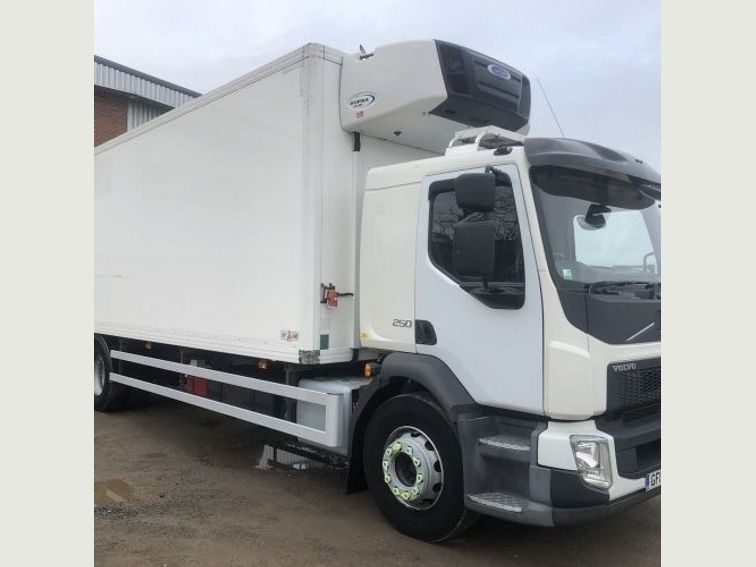Semi: (93, 37, 659, 544)
